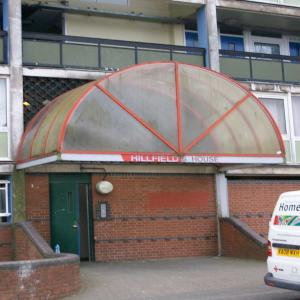Vehicle-registration-plate: (278, 250, 300, 259)
